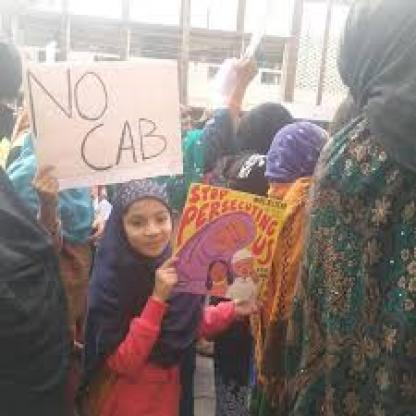BANNER: (26, 59, 181, 200)
